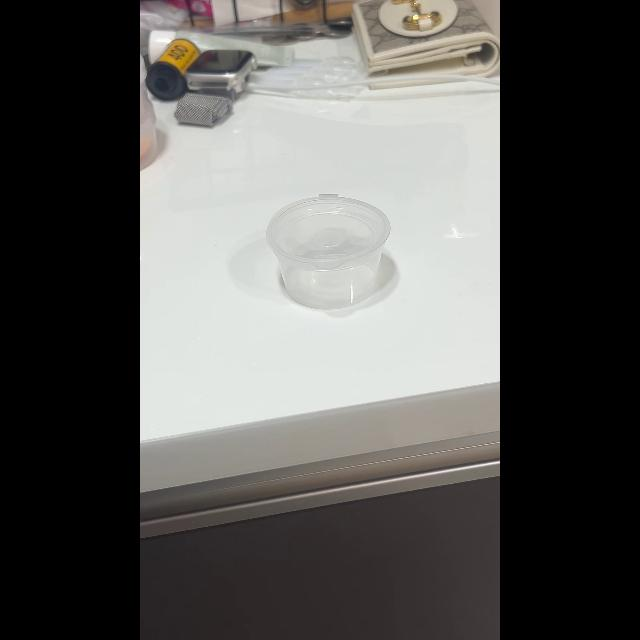clean: (265, 192, 391, 310)
